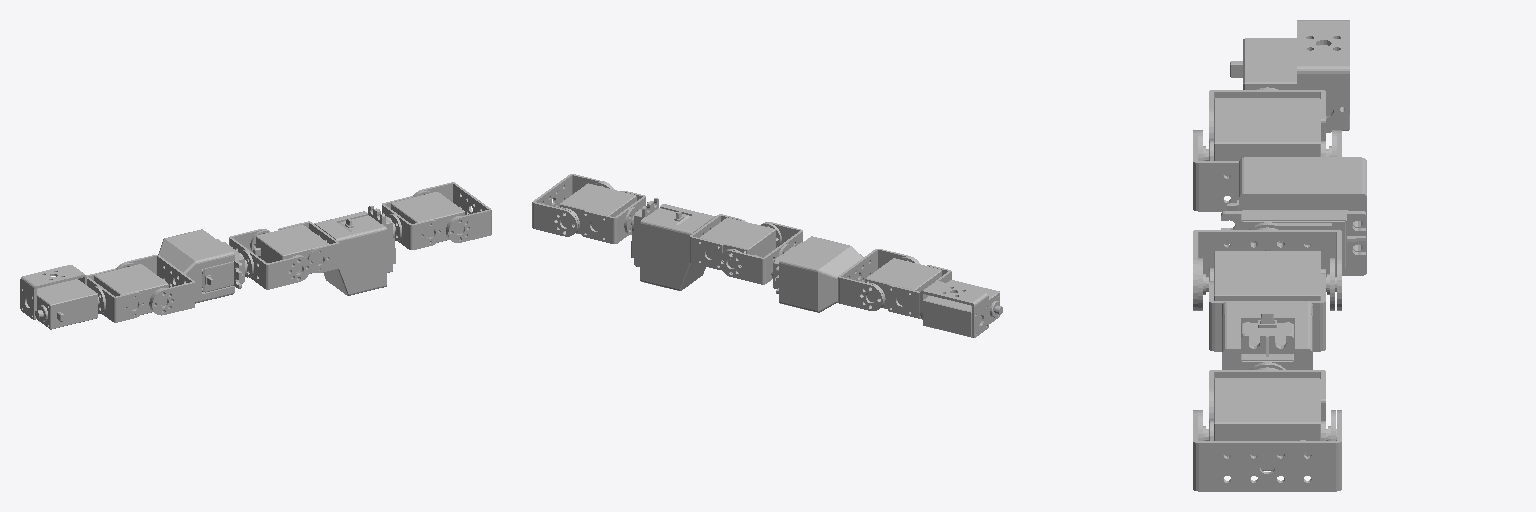
URDF robot description (arm_link_assembly_urdf):
<?xml version="1.0" encoding="utf-8" ?>
<!-- This URDF was automatically created by SolidWorks to URDF Exporter! Originally created by [author] ([email redacted]) 
     Commit Version: 1.5.1-0-g916b5db  Build Version: 1.5.7152.31018
     For more information, please see http://wiki.ros.org/sw_urdf_exporter -->
<robot name="arm_link_assembly_urdf">
    <link name="base_link">
        
<inertial>
            <origin xyz="0.0559336851155523 -0.0292574775004144 -0.038582269070158" rpy="0 0 0" />
            <mass value="0.0968689232942501" />
            <inertia ixx="1.55445766229564E-05" ixy="-8.35277627129627E-08" ixz="5.03416975328364E-08" iyy="2.70845786958262E-05" iyz="-2.70394800027881E-21" izz="1.84598196263772E-05" />
        </inertial>

        <visual>
            <origin xyz="0 0 0" rpy="0 0 0" />
            <geometry>
                <mesh filename="package://arm_link_assembly_urdf/meshes/base_link.STL" />
            </geometry>
            <material name="">
                <color rgba="0.752941176470588 0.752941176470588 0.752941176470588 1" />
            </material>
        </visual>
        <collision>
            <origin xyz="0 0 0" rpy="0 0 0" />
            <geometry>
                <mesh filename="package://arm_link_assembly_urdf/meshes/base_link.STL" />
            </geometry>
        </collision>
    </link>
    <link name="link_1">
        
<inertial>
            <origin xyz="0.0280957583907159 5.55111512312578E-17 -6.99855560113948E-05" rpy="0 0 0" />
            <mass value="0.0983193966224124" />
            <inertia ixx="1.82547717455818E-05" ixy="8.71939329854497E-21" ixz="1.33869460245786E-07" iyy="2.74058318008889E-05" iyz="-1.01406885991786E-21" izz="1.55837095473524E-05" />
        </inertial>

        <visual>
            <origin xyz="0 0 0" rpy="0 0 0" />
            <geometry>
                <mesh filename="package://arm_link_assembly_urdf/meshes/link_1.STL" />
            </geometry>
            <material name="">
                <color rgba="0.752941176470588 0.752941176470588 0.752941176470588 1" />
            </material>
        </visual>
        <collision>
            <origin xyz="0 0 0" rpy="0 0 0" />
            <geometry>
                <mesh filename="package://arm_link_assembly_urdf/meshes/link_1.STL" />
            </geometry>
        </collision>
    </link>
    <joint name="joint_0" type="revolute">
        <origin xyz="0.079005 0.026943 -0.03013" rpy="1.5708 0 0" />
        <parent link="base_link" />
        <child link="link_1" />
        <axis xyz="1 0 0" />
        <limit lower="0" upper="0" effort="0" velocity="0" />
    </joint>
    <link name="link_2">
        
<inertial>
            <origin xyz="0.0460268747012915 -1.89568361008696E-11 -0.0105740057510008" rpy="0 0 0" />
            <mass value="0.086903948381956" />
            <inertia ixx="2.50307090870512E-05" ixy="-1.43077196422158E-13" ixz="2.8012365624714E-07" iyy="2.64011741968077E-05" iyz="-5.79919395302141E-12" izz="1.45038904857528E-05" />
        </inertial>

        <visual>
            <origin xyz="0 0 0" rpy="0 0 0" />
            <geometry>
                <mesh filename="package://arm_link_assembly_urdf/meshes/link_2.STL" />
            </geometry>
            <material name="">
                <color rgba="0.752941176470588 0.752941176470588 0.752941176470588 1" />
            </material>
        </visual>
        <collision>
            <origin xyz="0 0 0" rpy="0 0 0" />
            <geometry>
                <mesh filename="package://arm_link_assembly_urdf/meshes/link_2.STL" />
            </geometry>
        </collision>
    </link>
    <joint name="joint_1" type="revolute">
        <origin xyz="0.041 0 0" rpy="0 0 0" />
        <parent link="link_1" />
        <child link="link_2" />
        <axis xyz="0 0 1" />
        <limit lower="0" upper="0" effort="0" velocity="0" />
    </joint>
    <link name="link_3">
        
<inertial>
            <origin xyz="0.014768277290448 4.02455846426619E-16 5.34514282963389E-05" rpy="0 0 0" />
            <mass value="0.0159210393973333" />
            <inertia ixx="6.45323964092142E-06" ixy="-5.95614289707051E-22" ixz="-3.40864893131517E-20" iyy="7.34995360383272E-06" iyz="5.61423612024314E-23" izz="1.92416901042439E-06" />
        </inertial>

        <visual>
            <origin xyz="0 0 0" rpy="0 0 0" />
            <geometry>
                <mesh filename="package://arm_link_assembly_urdf/meshes/link_3.STL" />
            </geometry>
            <material name="">
                <color rgba="0.752941176470588 0.752941176470588 0.752941176470588 1" />
            </material>
        </visual>
        <collision>
            <origin xyz="0 0 0" rpy="0 0 0" />
            <geometry>
                <mesh filename="package://arm_link_assembly_urdf/meshes/link_3.STL" />
            </geometry>
        </collision>
    </link>
    <joint name="joint_2" type="revolute">
        <origin xyz="0.0829 0 0" rpy="0 0 0" />
        <parent link="link_2" />
        <child link="link_3" />
        <axis xyz="1 0 0" />
        <limit lower="0" upper="0" effort="0" velocity="0" />
    </joint>
    <link name="link_4">
        
<inertial>
            <origin xyz="0.0342911766987549 -0.00514236007965658 -4.07013616933703E-05" rpy="0 0 0" />
            <mass value="0.169052741201088" />
            <inertia ixx="3.67510574781382E-05" ixy="3.64979870215601E-07" ixz="-1.33869450011617E-07" iyy="4.03198571736428E-05" iyz="-2.04181330736472E-12" izz="3.42114755033317E-05" />
        </inertial>

        <visual>
            <origin xyz="0 0 0" rpy="0 0 0" />
            <geometry>
                <mesh filename="package://arm_link_assembly_urdf/meshes/link_4.STL" />
            </geometry>
            <material name="">
                <color rgba="0.752941176470588 0.752941176470588 0.752941176470588 1" />
            </material>
        </visual>
        <collision>
            <origin xyz="0 0 0" rpy="0 0 0" />
            <geometry>
                <mesh filename="package://arm_link_assembly_urdf/meshes/link_4.STL" />
            </geometry>
        </collision>
    </link>
    <joint name="joint_3" type="revolute">
        <origin xyz="0.03 0 0" rpy="0 0 0" />
        <parent link="link_3" />
        <child link="link_4" />
        <axis xyz="0 0 1" />
        <limit lower="0" upper="0" effort="0" velocity="0" />
    </joint>
    <link name="link_5">
        
<inertial>
            <origin xyz="0.0280957583907162 1.3392065234541E-15 -6.99855560098959E-05" rpy="0 0 0" />
            <mass value="0.0983193966224124" />
            <inertia ixx="1.82547717455818E-05" ixy="6.67523310858654E-22" ixz="1.33869460245804E-07" iyy="2.74058318008889E-05" iyz="-3.9988945263571E-22" izz="1.55837095473524E-05" />
        </inertial>

        <visual>
            <origin xyz="0 0 0" rpy="0 0 0" />
            <geometry>
                <mesh filename="package://arm_link_assembly_urdf/meshes/link_5.STL" />
            </geometry>
            <material name="">
                <color rgba="0.752941176470588 0.752941176470588 0.752941176470588 1" />
            </material>
        </visual>
        <collision>
            <origin xyz="0 0 0" rpy="0 0 0" />
            <geometry>
                <mesh filename="package://arm_link_assembly_urdf/meshes/link_5.STL" />
            </geometry>
        </collision>
    </link>
    <joint name="joint_4" type="revolute">
        <origin xyz="0.0939 0 0" rpy="0 0 0" />
        <parent link="link_4" />
        <child link="link_5" />
        <axis xyz="1 0 0" />
        <limit lower="0" upper="0" effort="0" velocity="0" />
    </joint>
    <link name="link_6">
        
<inertial>
            <origin xyz="0.0139457253464113 -2.77902700851484E-15 3.06339031296739E-05" rpy="0 0 0" />
            <mass value="0.0144705660691709" />
            <inertia ixx="6.37616734104998E-06" ixy="-1.95876369052557E-21" ixz="1.22011298777457E-20" iyy="7.31082067943671E-06" iyz="3.55205493490664E-21" izz="1.88503608602839E-06" />
        </inertial>

        <visual>
            <origin xyz="0 0 0" rpy="0 0 0" />
            <geometry>
                <mesh filename="package://arm_link_assembly_urdf/meshes/link_6.STL" />
            </geometry>
            <material name="">
                <color rgba="0.752941176470588 0.752941176470588 0.752941176470588 1" />
            </material>
        </visual>
        <collision>
            <origin xyz="0 0 0" rpy="0 0 0" />
            <geometry>
                <mesh filename="package://arm_link_assembly_urdf/meshes/link_6.STL" />
            </geometry>
        </collision>
    </link>
    <joint name="joint_5" type="revolute">
        <origin xyz="0.041 0 0" rpy="0 0 0" />
        <parent link="link_5" />
        <child link="link_6" />
        <axis xyz="0 0 1" />
        <limit lower="0" upper="0" effort="0" velocity="0" />
    </joint>
    
<transmission name="trans_joint_0">
        <type>transmission_interface/SimpleTransmission</type>
        <joint name="joint_0">
            <hardwareInterface>hardware_interface/PositionJointInterface</hardwareInterface>
        </joint>
        <actuator name="joint_0_motor">
            <hardwareInterface>hardware_interface/PositionJointInterface</hardwareInterface>
            <mechanicalReduction>1</mechanicalReduction>
        </actuator>
    </transmission>
    <transmission name="trans_joint_1">
        <type>transmission_interface/SimpleTransmission</type>
        <joint name="joint_1">
            <hardwareInterface>hardware_interface/PositionJointInterface</hardwareInterface>
        </joint>
        <actuator name="joint_1_motor">
            <hardwareInterface>hardware_interface/PositionJointInterface</hardwareInterface>
            <mechanicalReduction>1</mechanicalReduction>
        </actuator>
    </transmission>
    <transmission name="trans_joint_2">
        <type>transmission_interface/SimpleTransmission</type>
        <joint name="joint_2">
            <hardwareInterface>hardware_interface/PositionJointInterface</hardwareInterface>
        </joint>
        <actuator name="joint_2_motor">
            <hardwareInterface>hardware_interface/PositionJointInterface</hardwareInterface>
            <mechanicalReduction>1</mechanicalReduction>
        </actuator>
    </transmission>
    <transmission name="trans_joint_3">
        <type>transmission_interface/SimpleTransmission</type>
        <joint name="joint_3">
            <hardwareInterface>hardware_interface/PositionJointInterface</hardwareInterface>
        </joint>
        <actuator name="joint_3_motor">
            <hardwareInterface>hardware_interface/PositionJointInterface</hardwareInterface>
            <mechanicalReduction>1</mechanicalReduction>
        </actuator>
    </transmission>
    <transmission name="trans_joint_4">
        <type>transmission_interface/SimpleTransmission</type>
        <joint name="joint_4">
            <hardwareInterface>hardware_interface/PositionJointInterface</hardwareInterface>
        </joint>
        <actuator name="joint_4_motor">
            <hardwareInterface>hardware_interface/PositionJointInterface</hardwareInterface>
            <mechanicalReduction>1</mechanicalReduction>
        </actuator>
    </transmission>
    <transmission name="trans_joint_5">
        <type>transmission_interface/SimpleTransmission</type>
        <joint name="joint_5">
            <hardwareInterface>hardware_interface/PositionJointInterface</hardwareInterface>
        </joint>
        <actuator name="joint_5_motor">
            <hardwareInterface>hardware_interface/PositionJointInterface</hardwareInterface>
            <mechanicalReduction>1</mechanicalReduction>
        </actuator>
    </transmission>
    <gazebo>
        <plugin name="gazebo_ros_control" filename="libgazebo_ros_control.so">
            <robotNamespace>/</robotNamespace>
        </plugin>
    </gazebo>
</robot>

--- What the picture shows (computed from the rendered views, not written in the file) ---
The picture shows the robot from 3 angles, left to right: view 1: azimuth 30°, elevation 25°; view 2: azimuth 150°, elevation 25°; view 3: azimuth 270°, elevation 25°; orthographic projection.
Robot: arm_link_assembly_urdf — 7 links, 6 joints (6 revolute); root link base_link; default pose: all joints at 0.
Links seen in each view (by area): view 1: link_4, link_2, base_link, link_5, link_1, link_3, link_6; view 2: link_4, link_2, base_link, link_5, link_1, link_6, link_3; view 3: link_2, link_4, link_5, link_1, link_6, base_link, link_3.
Link boxes in pixels (<box>): link_4: <box>253,206,395,295</box>; link_2: <box>116,229,246,315</box>; base_link: <box>20,265,97,329</box>; link_5: <box>382,192,464,249</box>; link_1: <box>86,264,168,322</box>; link_3: <box>229,229,310,289</box>; link_6: <box>413,182,491,242</box>; link_4: <box>631,198,775,290</box>; link_2: <box>771,236,919,312</box>; base_link: <box>920,280,1002,337</box>; link_5: <box>559,183,645,243</box>; link_1: <box>865,258,951,318</box>; link_6: <box>532,174,614,236</box>; link_3: <box>719,222,802,284</box>; link_2: <box>1193,130,1366,275</box>; link_4: <box>1206,251,1336,369</box>; link_5: <box>1206,367,1336,470</box>; link_1: <box>1206,87,1328,176</box>; link_6: <box>1193,410,1341,491</box>; base_link: <box>1230,20,1349,132</box>; link_3: <box>1193,227,1341,310</box>.
Bounding box of the posed robot: 0.3648 × 0.0654 × 0.0547 m (x, y, z).
7 mesh visuals loaded from 7 distinct referenced files (7 binary STL).